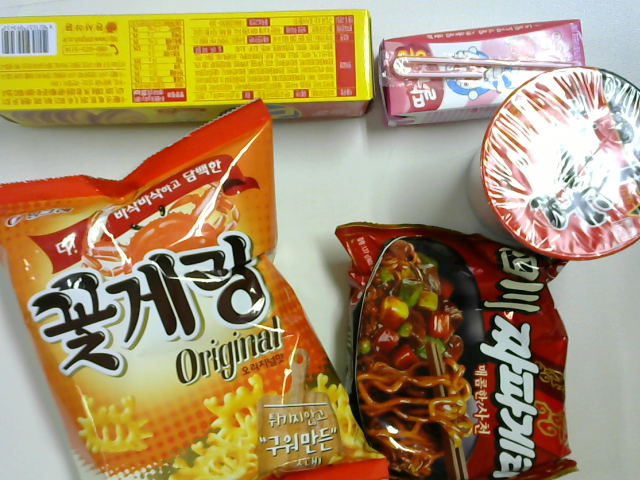Crabrang: (3, 102, 382, 480)
Ritz_Remon_96g: (3, 12, 381, 130)
Sichuan_Chapaghetti: (337, 218, 575, 480)
Sinramen_small: (485, 76, 640, 262)
Strawberry_E_Mong: (379, 20, 589, 124)
